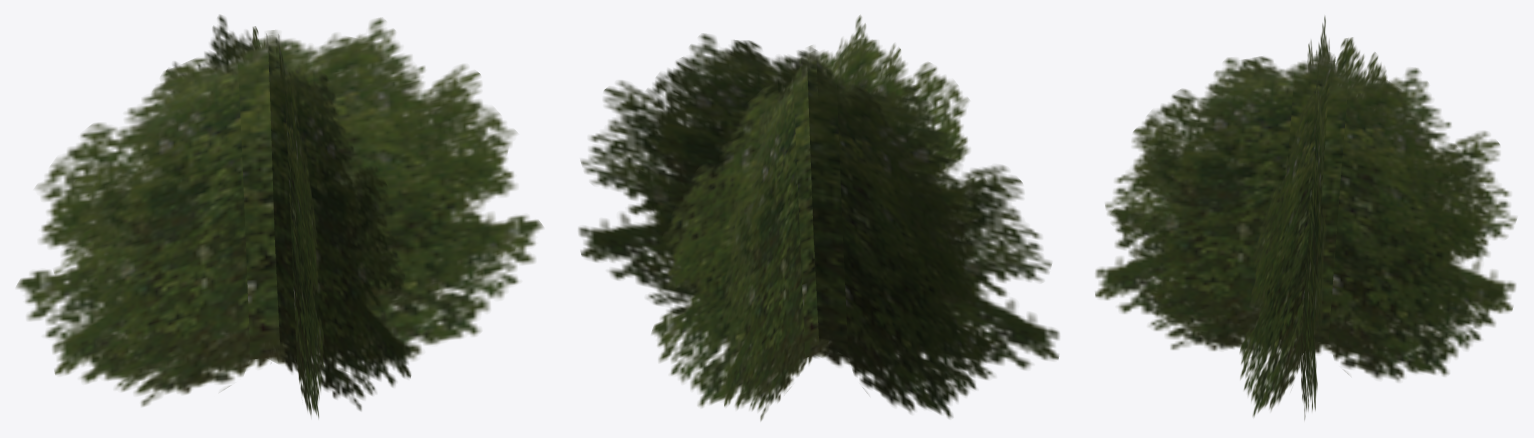
The model's file is tree_11.glb.
The picture shows the model from 3 angles, left to right: view 1: azimuth 30°, elevation 25°; view 2: azimuth 150°, elevation 25°; view 3: azimuth 270°, elevation 25°; orthographic projection. The views are drawn at different scales.
Visible parts, largest first — view 1: Background_Tree_Atlas.010_Background_Tree_Atlas_0; view 2: Background_Tree_Atlas.010_Background_Tree_Atlas_0; view 3: Background_Tree_Atlas.010_Background_Tree_Atlas_0.
Part boxes in pixels (<box>): Background_Tree_Atlas.010_Background_Tree_Atlas_0: <box>16,15,543,418</box>; Background_Tree_Atlas.010_Background_Tree_Atlas_0: <box>578,15,1059,420</box>; Background_Tree_Atlas.010_Background_Tree_Atlas_0: <box>1095,16,1516,419</box>.
Size of the model in its own units: 3.2 by 2.24 by 2.65.
Materials: 1 (1 with a texture image).
